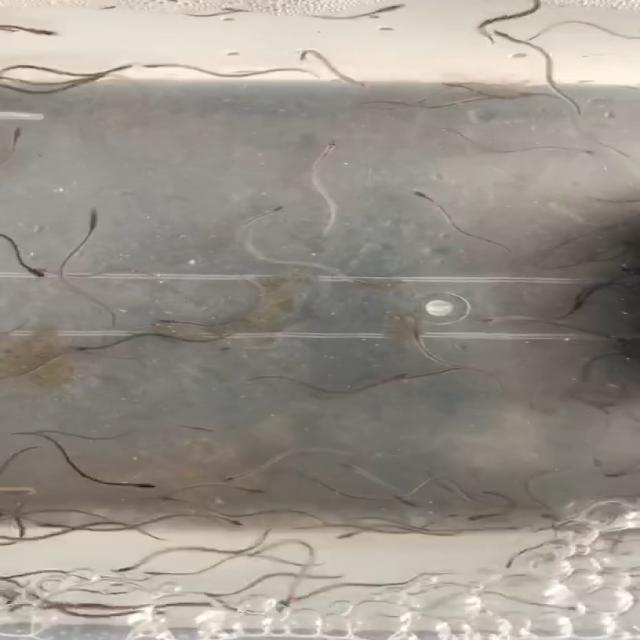active_glass_eel: (74, 204, 117, 230), (518, 398, 556, 416), (267, 595, 301, 615), (9, 124, 41, 145), (108, 563, 156, 577), (13, 26, 63, 39), (368, 1, 408, 17), (482, 29, 531, 42), (406, 190, 443, 206), (276, 592, 318, 606), (541, 604, 589, 616), (315, 140, 343, 160), (224, 469, 264, 483), (324, 526, 364, 540), (34, 600, 80, 612), (18, 264, 54, 279), (604, 466, 640, 481), (121, 478, 162, 491), (211, 514, 249, 528), (589, 400, 620, 417), (476, 28, 501, 49), (380, 371, 420, 384), (403, 326, 432, 343), (536, 514, 576, 526), (232, 482, 265, 496), (31, 266, 69, 278), (476, 315, 514, 327), (436, 509, 471, 522), (263, 202, 292, 217), (153, 494, 188, 506), (138, 59, 176, 70), (137, 566, 167, 579), (130, 606, 173, 615), (153, 314, 184, 326), (396, 494, 420, 509), (569, 148, 601, 159), (72, 344, 110, 353), (590, 450, 608, 469), (570, 295, 590, 312), (493, 558, 526, 568), (333, 460, 360, 472), (441, 80, 469, 91), (509, 92, 542, 101), (610, 263, 635, 274), (615, 238, 640, 248)
